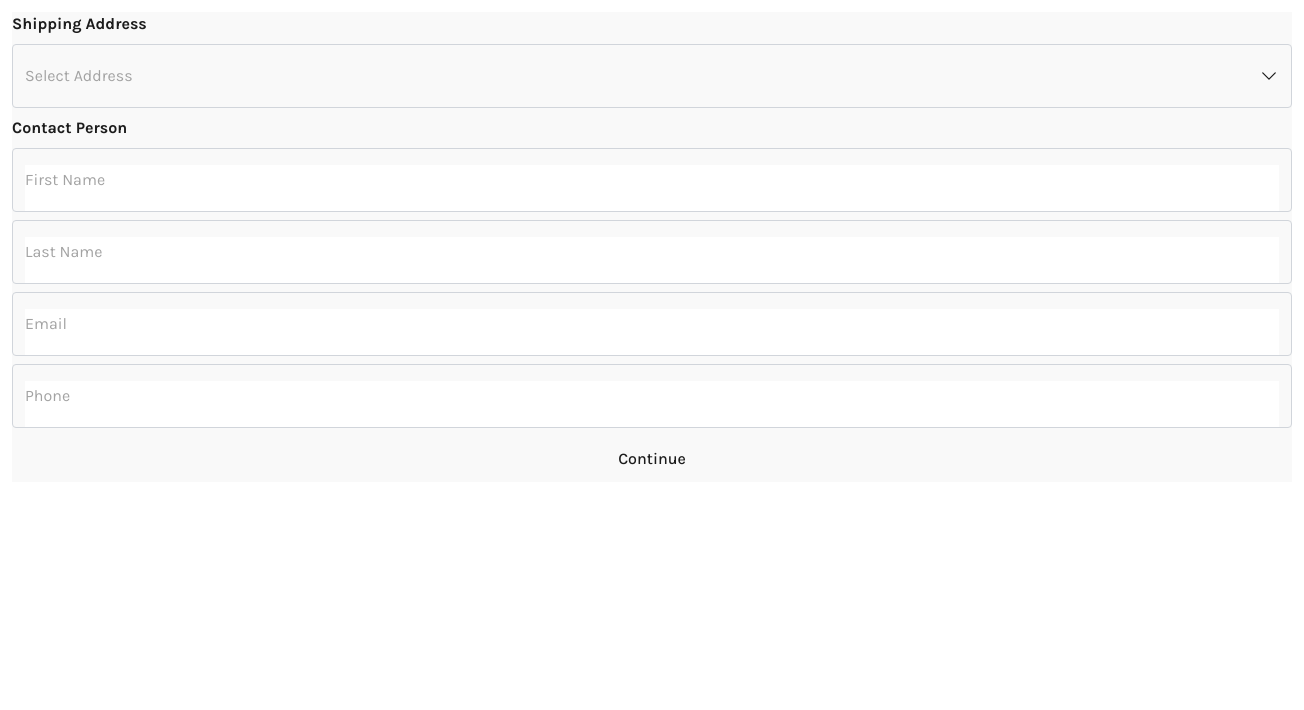
Test: B2BAddressForm › should show all address fields when "Other address" is selected
Expected: the text "Select Address" is shown, [25,64,133,88]
Click on dropdown and select "Other address"
Click the field with test id "address-form__select-address".
click(79, 76)  # box [25,66,1279,86]
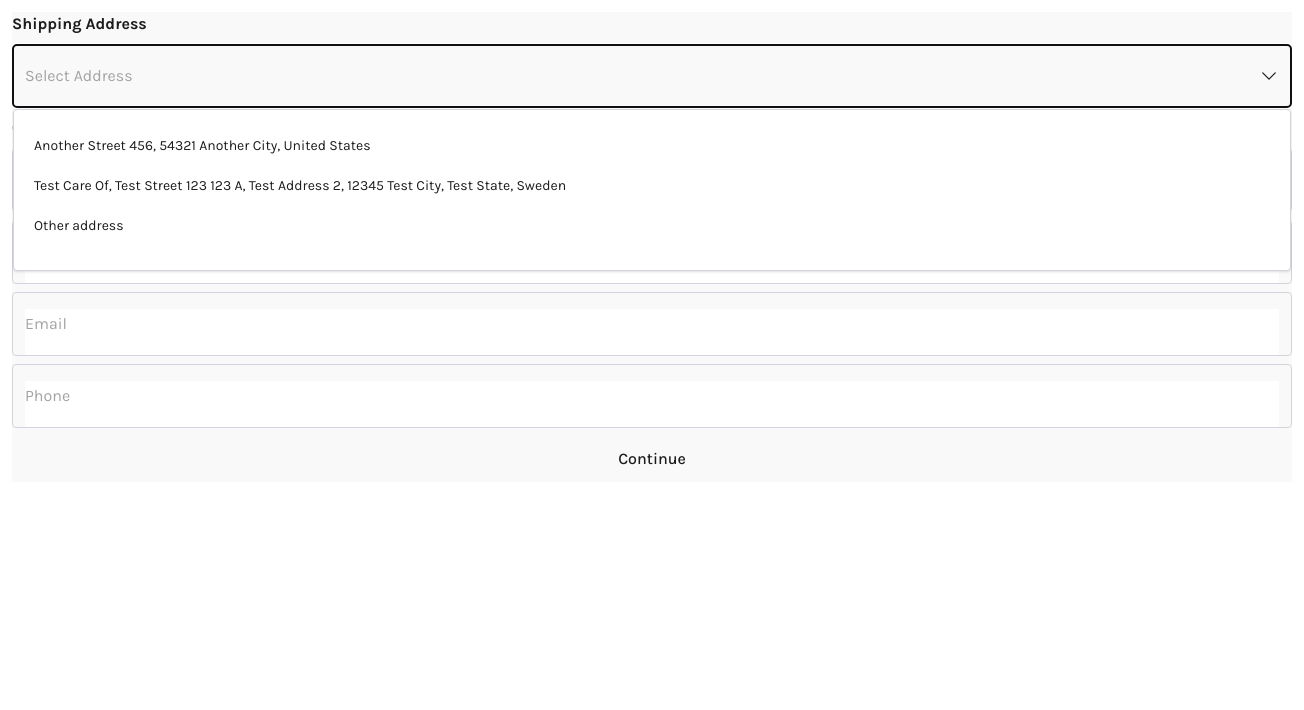
Now the text "Other address" is shown
Click the option "Other address".
click(79, 226)  # box [34,217,124,234]
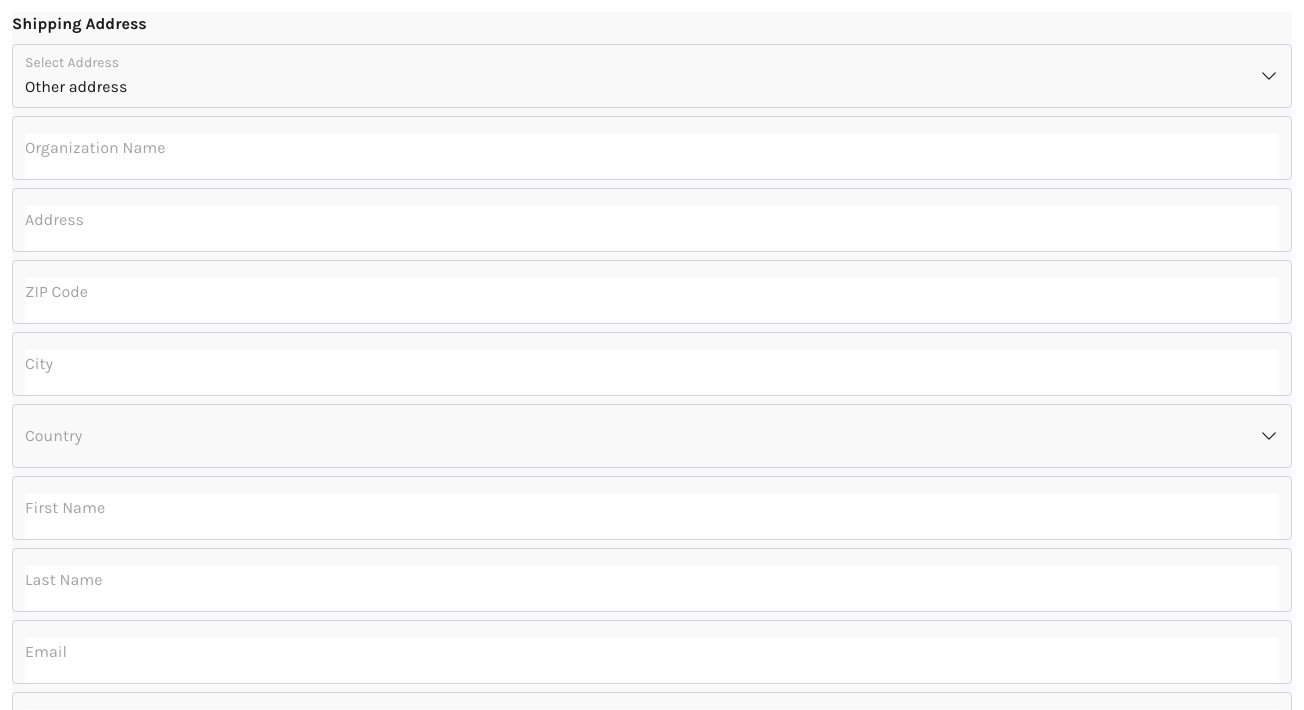
Now the field with test id "address-form__organization-name" is shown, box [25,133,1279,179]
Now the field with test id "address-form__address" is shown, box [25,205,1279,251]
Now the field with test id "address-form__zipcode" is shown, box [25,277,1279,323]
